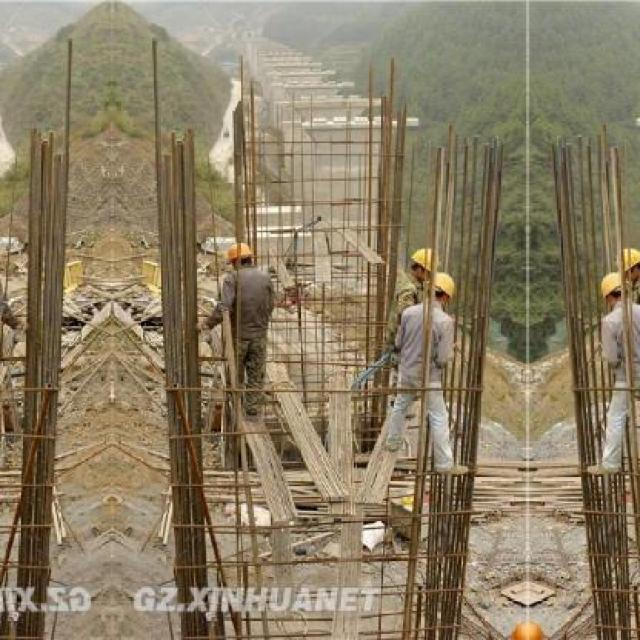helmet: (423, 270, 465, 304), (405, 244, 443, 278), (228, 237, 255, 265)
